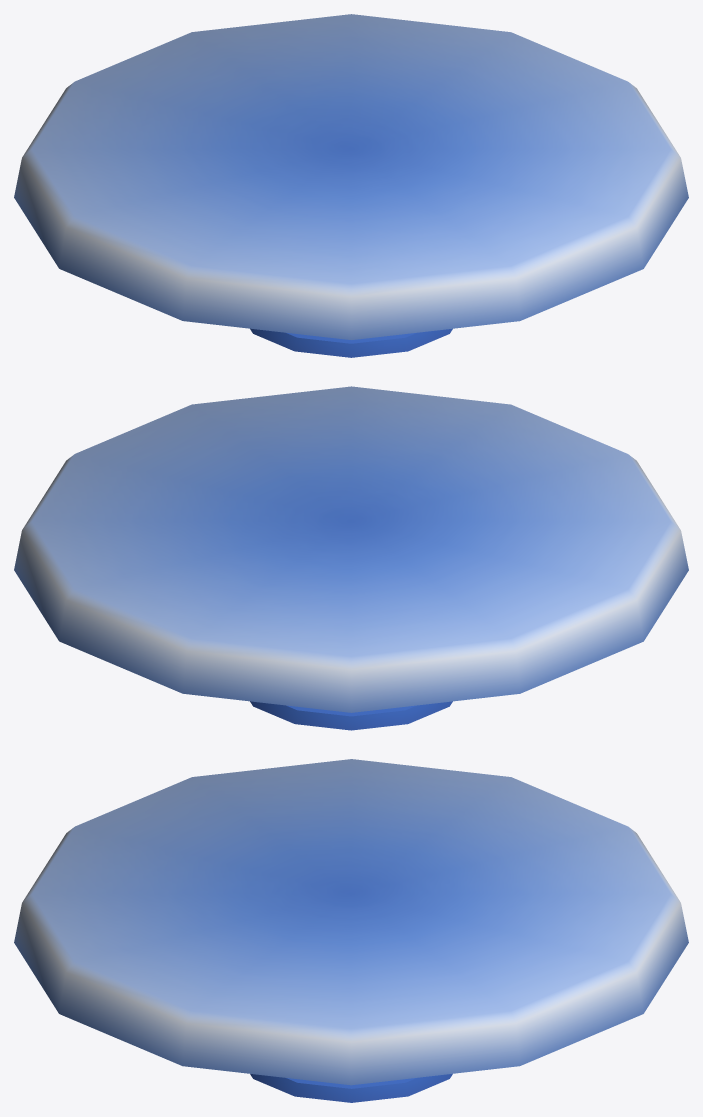
The model's file is m_CakeStand01.fbx.
3 renders of one model, top to bottom at view 1: azimuth 30°, elevation 25°; view 2: azimuth 150°, elevation 25°; view 3: azimuth 270°, elevation 25°, orthographic.
Visible parts, largest first — view 1: m_CakeStand01.001; view 2: m_CakeStand01.001; view 3: m_CakeStand01.001.
Part boxes in pixels (x1=…): m_CakeStand01.001: x1=14, y1=14, x2=688, y2=357; m_CakeStand01.001: x1=14, y1=386, x2=688, y2=730; m_CakeStand01.001: x1=14, y1=759, x2=688, y2=1102.
Bounding box in the file's own units: 34.21 × 9 × 34.21.
